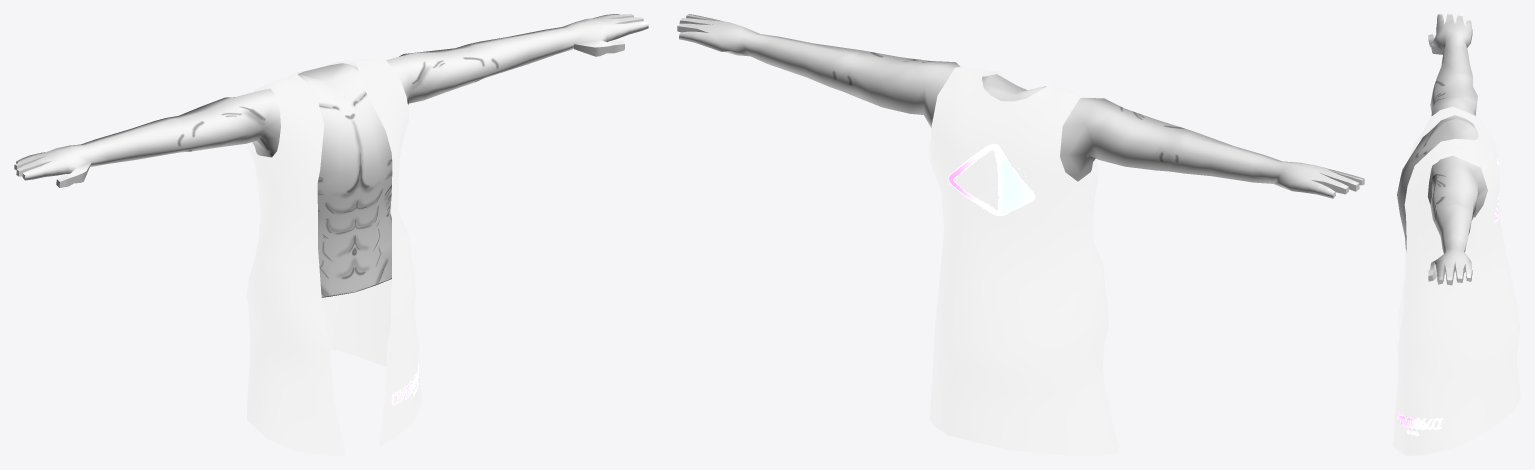
File: Vest_6Pack_White.glb
The picture shows the model from 3 angles, left to right: view 1: azimuth 30°, elevation 25°; view 2: azimuth 150°, elevation 25°; view 3: azimuth 270°, elevation 25°; orthographic projection. The views are drawn at different scales.
Parts seen in each view (by area): view 1: vest_bodyAbs.001; view 2: vest_bodyAbs.001; view 3: vest_bodyAbs.001.
Boxes of the visible parts, x1,y1,x2,y2 form: vest_bodyAbs.001: (14,14,648,455); vest_bodyAbs.001: (677,14,1364,455); vest_bodyAbs.001: (1393,14,1520,455).
Size of what is drawn, in the model's own units: 1.83 by 0.9988 by 0.3719.
Materials: 2 (2 with a texture image).
